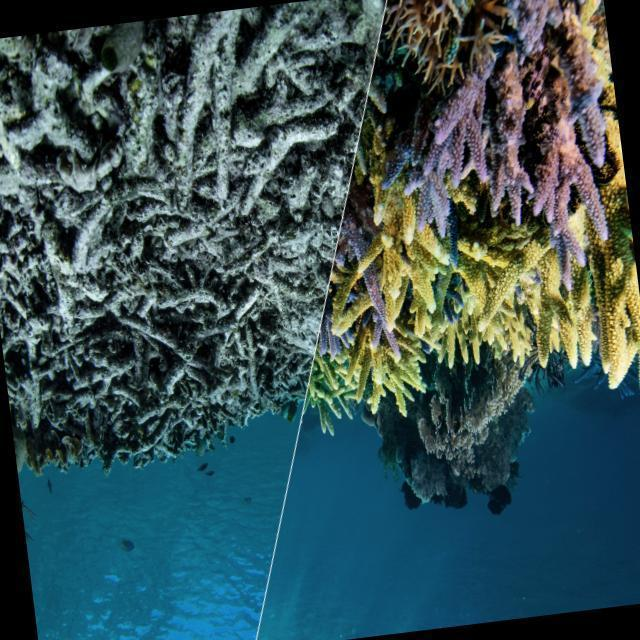Dead Coral: (0, 7, 310, 490)
